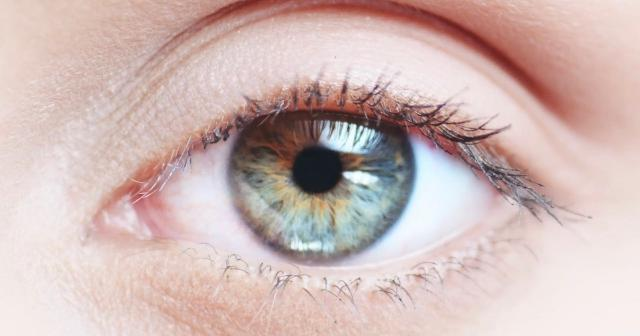eye: (230, 100, 416, 264)
